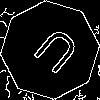U: (25, 25, 83, 83)
